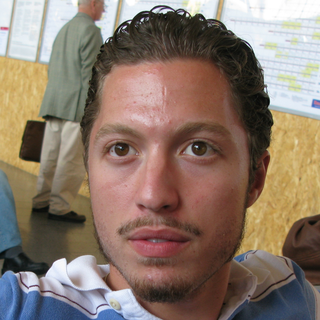eye: (168, 135, 226, 165), (98, 139, 142, 166)
